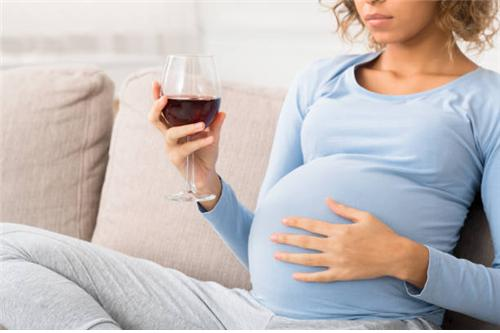alcohol: (158, 55, 221, 201)
